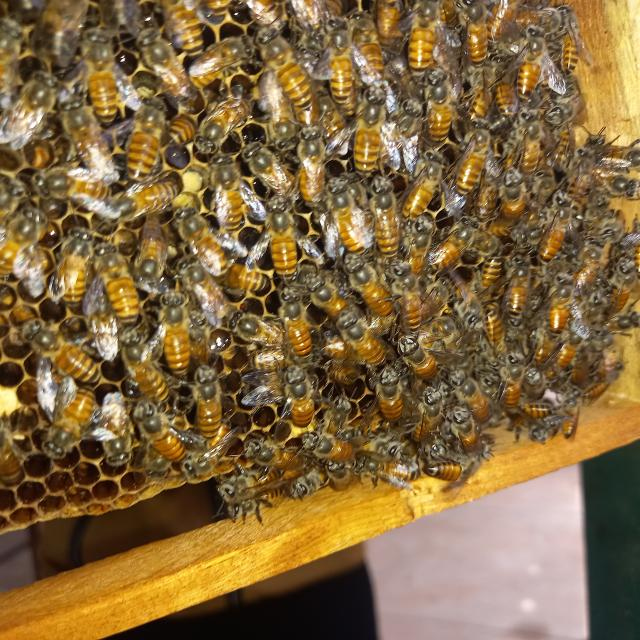honeybee: (203, 158, 262, 230), (262, 53, 314, 132), (277, 292, 327, 374), (229, 2, 303, 54), (50, 239, 102, 312), (51, 409, 116, 465), (137, 408, 194, 471), (289, 128, 335, 206), (320, 313, 379, 371), (240, 139, 291, 206), (142, 46, 194, 110), (186, 209, 242, 268), (150, 260, 191, 340), (127, 227, 195, 275), (258, 213, 314, 270), (266, 364, 320, 423), (87, 264, 150, 314), (363, 273, 413, 335), (308, 273, 363, 327), (354, 45, 393, 121), (409, 76, 459, 135), (332, 176, 367, 260), (126, 336, 170, 402), (85, 53, 123, 129), (0, 215, 70, 256), (384, 332, 438, 384), (364, 182, 392, 282), (496, 252, 536, 322), (12, 316, 62, 371), (445, 392, 488, 455), (182, 271, 232, 325), (454, 8, 488, 87), (370, 368, 414, 429), (164, 302, 202, 371), (192, 372, 234, 434), (541, 17, 581, 82), (521, 400, 581, 443), (325, 40, 354, 126), (50, 348, 119, 384), (504, 44, 540, 112), (539, 280, 579, 340), (236, 314, 289, 359), (416, 310, 465, 358), (448, 125, 485, 188), (412, 377, 449, 440), (566, 248, 607, 302), (116, 135, 162, 183), (305, 429, 361, 468), (399, 214, 431, 282), (400, 150, 440, 204), (239, 421, 290, 463), (556, 334, 597, 386), (473, 288, 508, 345), (294, 465, 335, 512), (509, 325, 552, 369), (497, 157, 527, 220), (597, 164, 633, 216), (589, 126, 640, 162), (517, 110, 547, 171), (610, 246, 640, 306), (192, 105, 246, 138), (461, 363, 490, 424), (221, 465, 290, 490), (66, 155, 148, 176), (409, 22, 431, 98), (109, 187, 192, 207), (505, 368, 529, 434), (415, 446, 461, 478), (198, 48, 250, 75), (547, 178, 562, 270), (441, 211, 461, 277), (472, 239, 489, 288)
